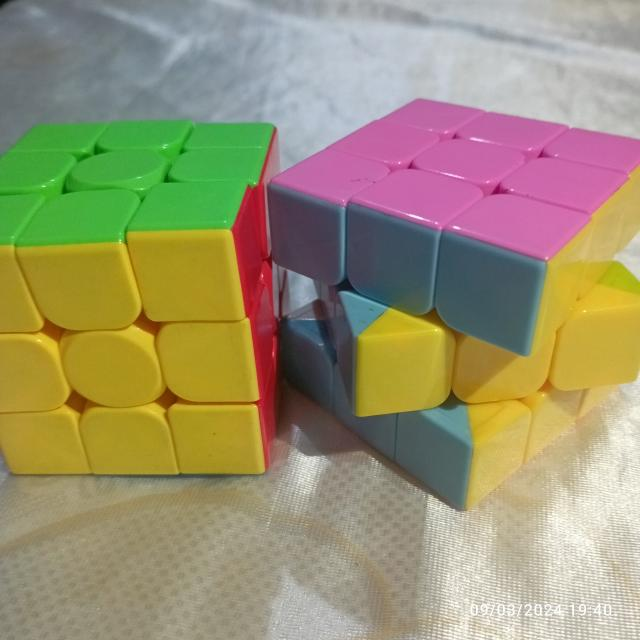Rub: (266, 91, 640, 511), (0, 119, 293, 482)
